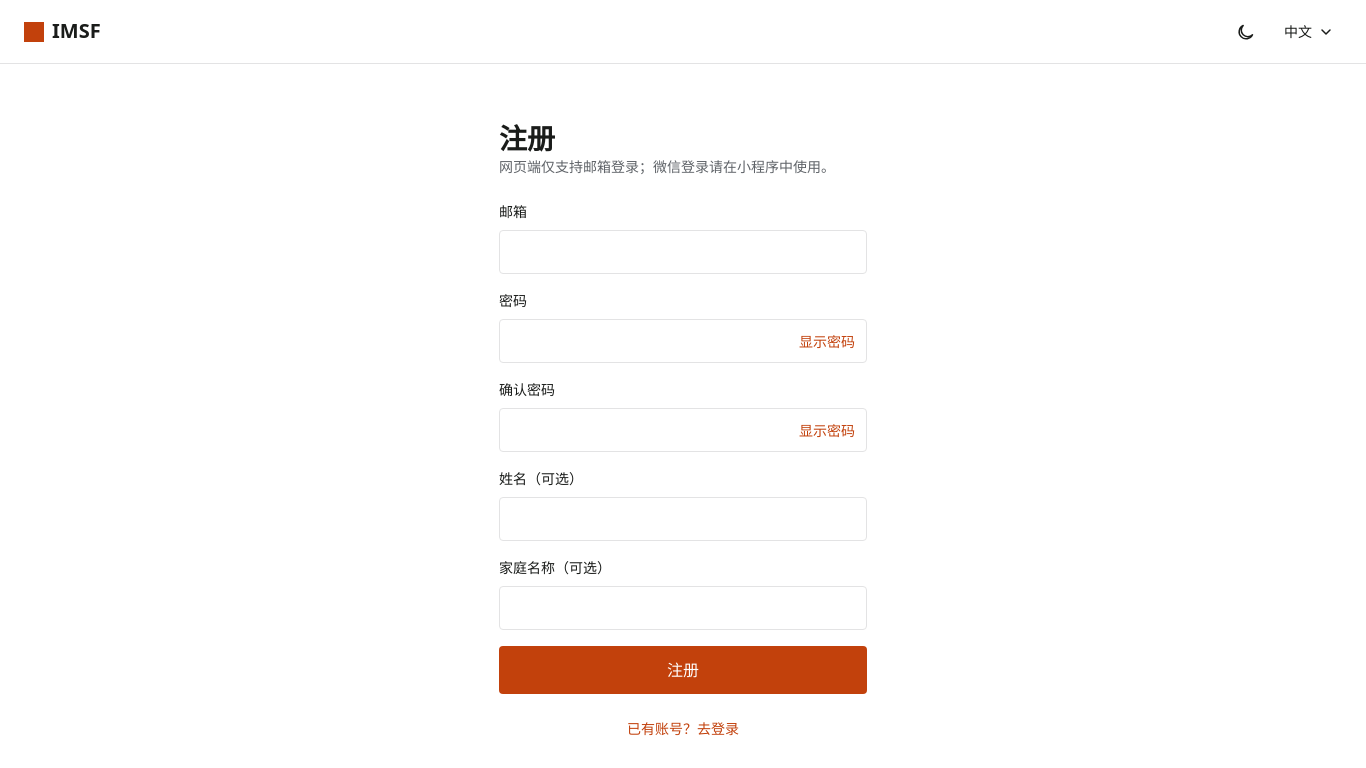
Scenario: error mapping › 409 shows the exact message with a link to /login
Type "a@b.c" into the field labelled "邮箱" at x=683, y=252, box [499,230,867,274]
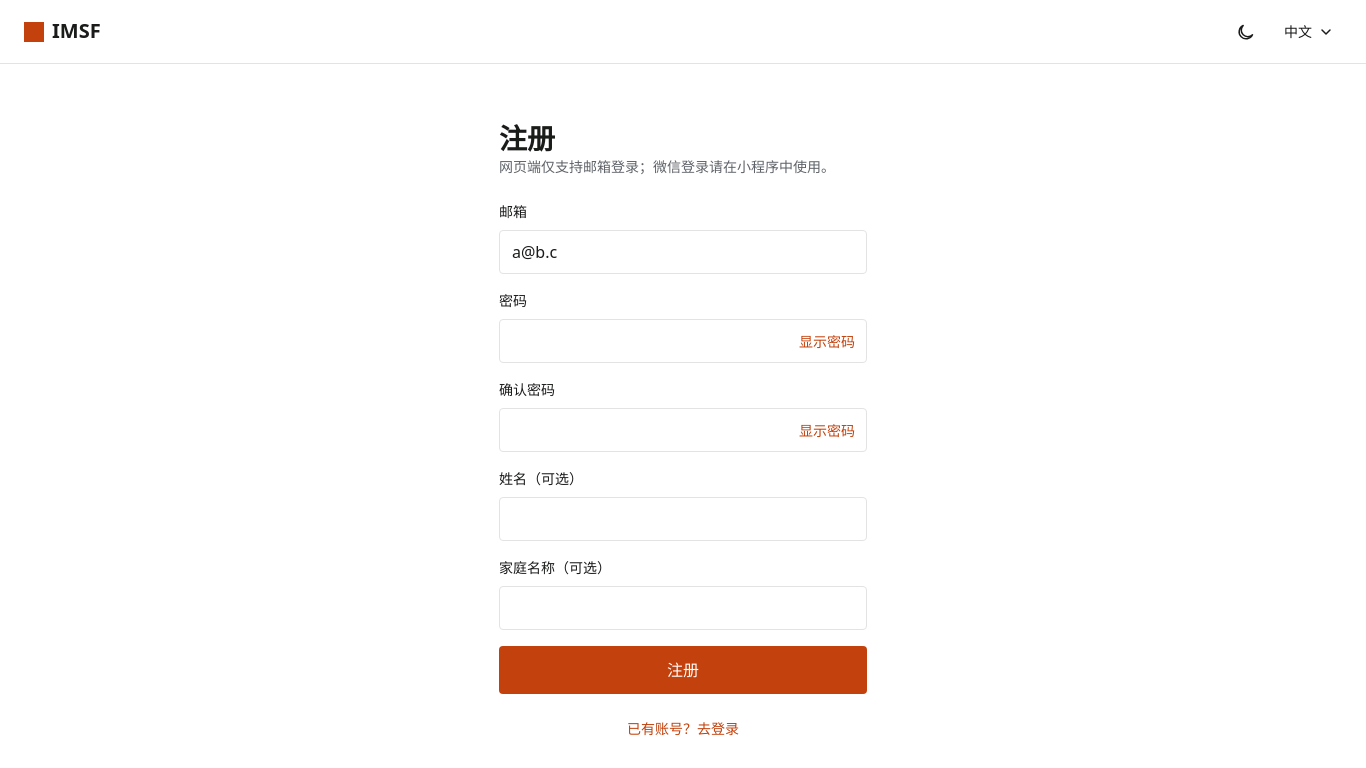
Type "longenough" into the password field labelled "密码" at x=683, y=341, box [499,319,867,363]
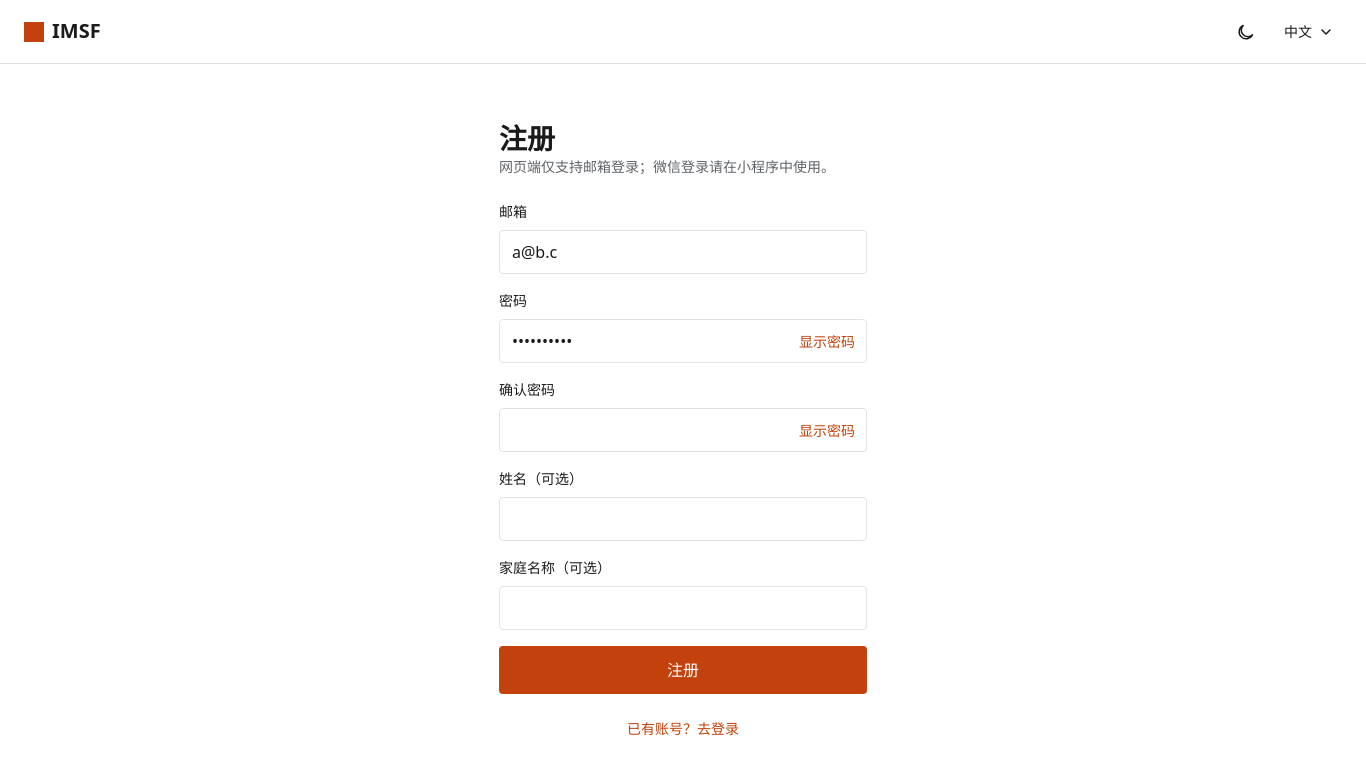
Type "longenough" into the password field labelled "确认密码" at x=683, y=430, box [499,408,867,452]
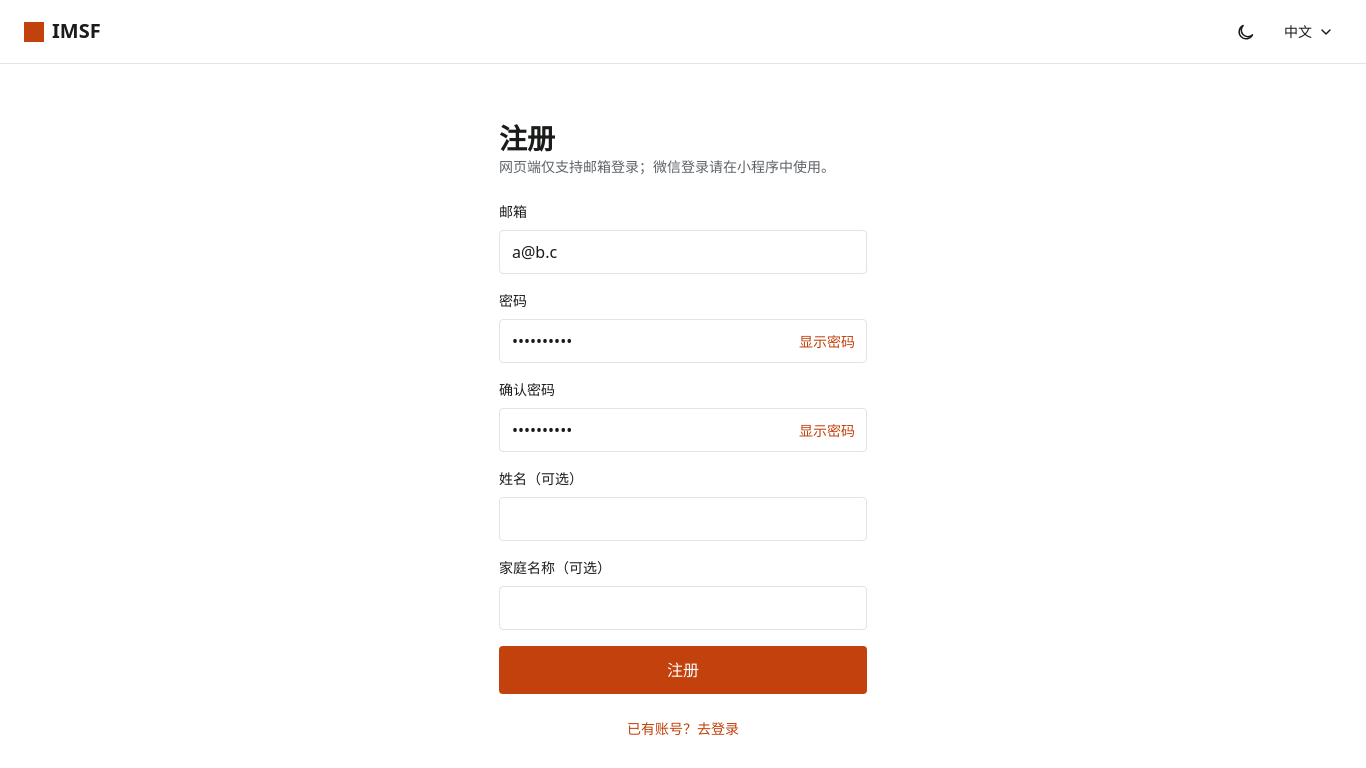
Click the button "注册" at x=683, y=670, box [499,646,867,694]
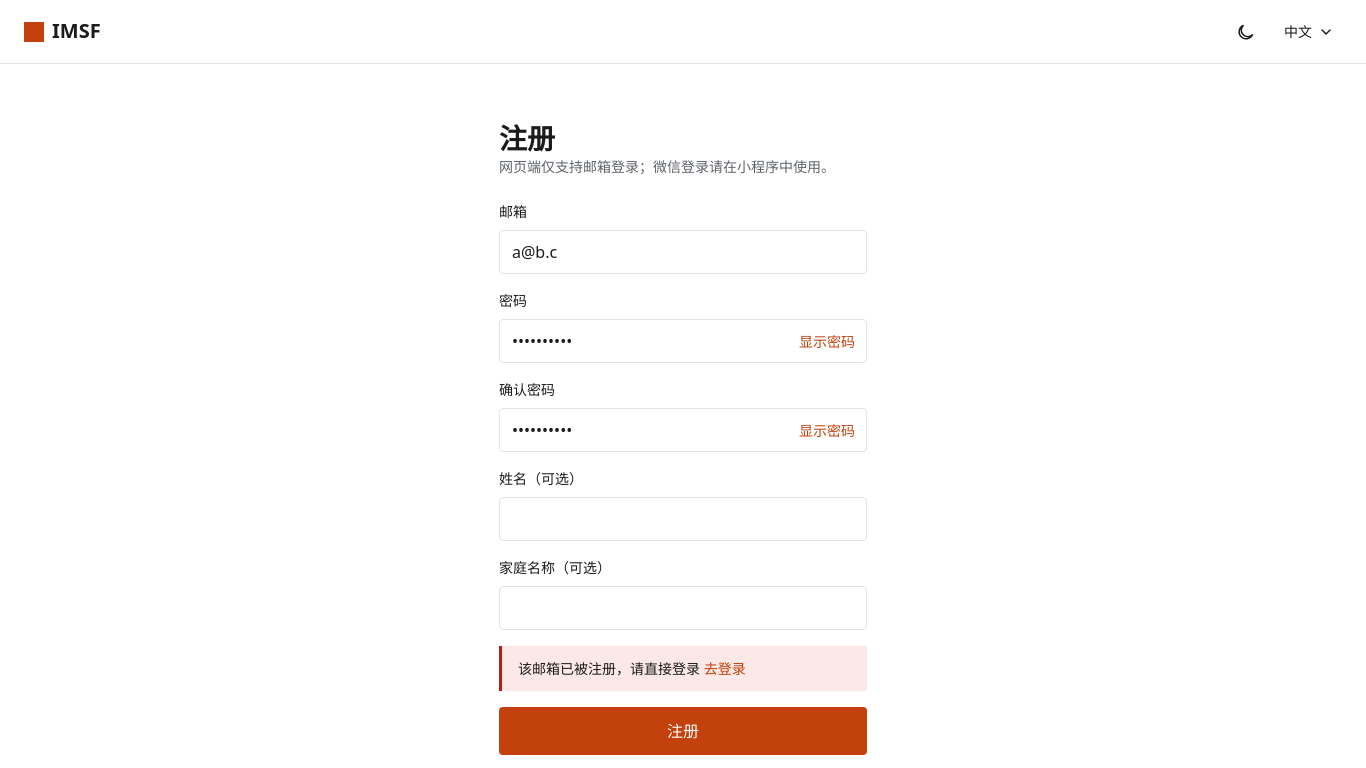
expect the message shows "该邮箱已被注册，请直接登录": met, box [518,659,700,678]
